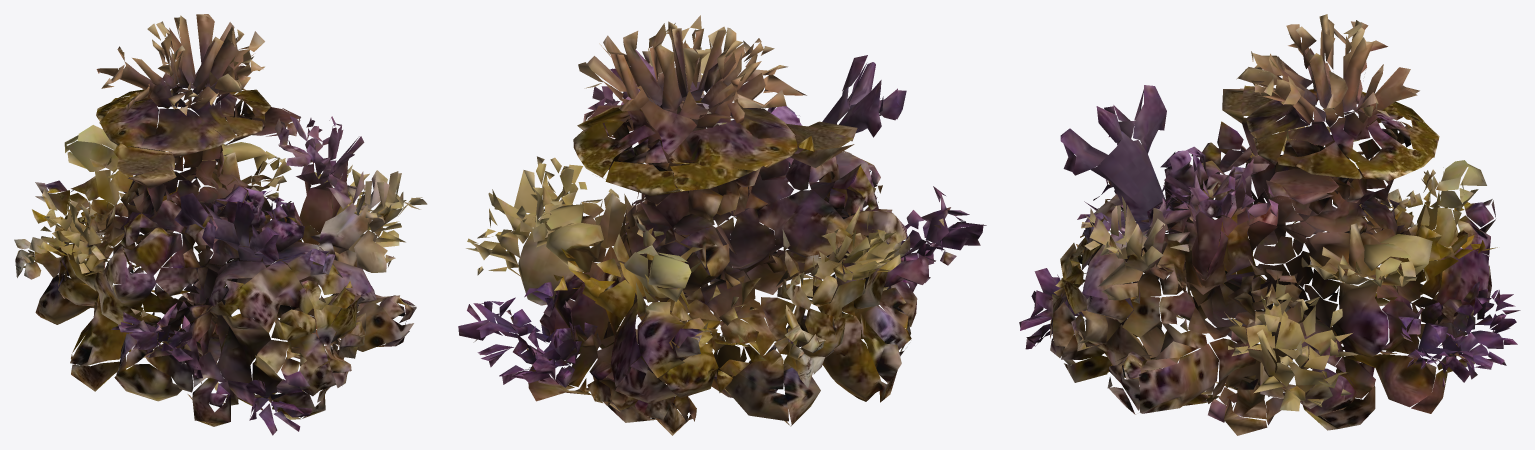
The model's file is reefmass_c.glb.
The picture shows the model from 3 angles, left to right: view 1: azimuth 30°, elevation 25°; view 2: azimuth 150°, elevation 25°; view 3: azimuth 270°, elevation 25°; orthographic projection. The views are drawn at different scales.
Parts seen in each view (by area): view 1: tripo_node_705ec478-6d67-4635-8ecd-a9367209145a; view 2: tripo_node_705ec478-6d67-4635-8ecd-a9367209145a; view 3: tripo_node_705ec478-6d67-4635-8ecd-a9367209145a.
Boxes of the visible parts, <box> form: tripo_node_705ec478-6d67-4635-8ecd-a9367209145a: <box>14,14,427,435</box>; tripo_node_705ec478-6d67-4635-8ecd-a9367209145a: <box>458,15,986,435</box>; tripo_node_705ec478-6d67-4635-8ecd-a9367209145a: <box>1019,14,1520,435</box>.
Size of the model in its own units: 0.9222 by 0.8222 by 0.9979.
Materials: 1 (1 with a texture image).
